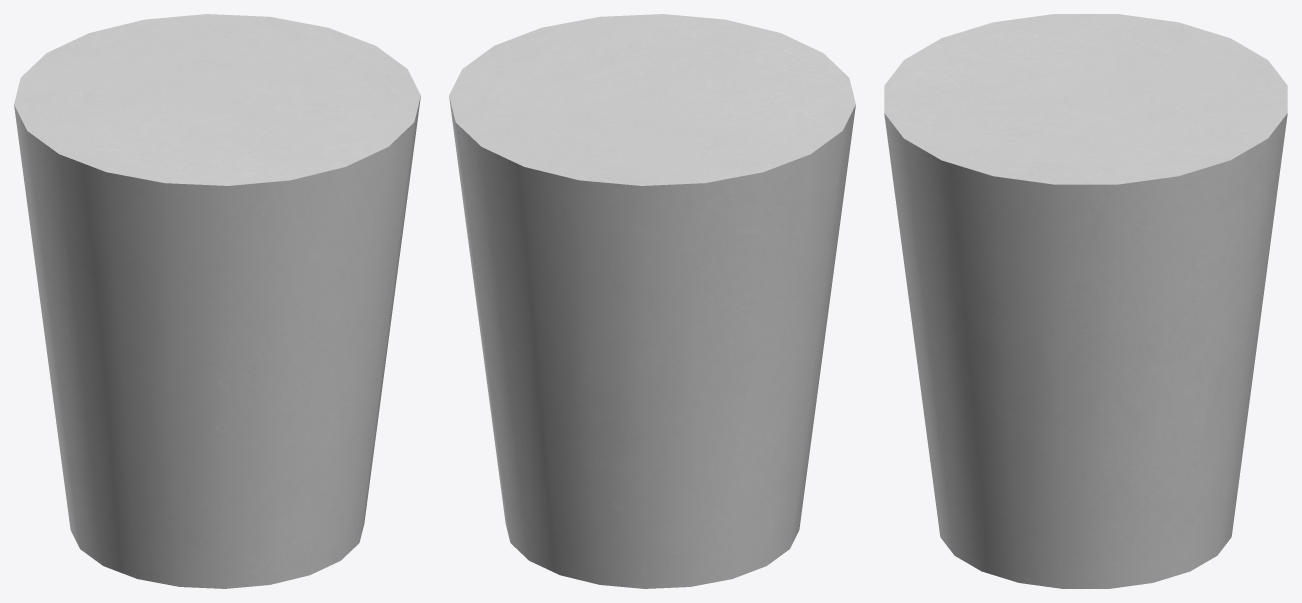
The model's file is SM_浓缩瓶塞.fbx.
The picture shows the model from 3 angles, left to right: view 1: azimuth 30°, elevation 25°; view 2: azimuth 150°, elevation 25°; view 3: azimuth 270°, elevation 25°; orthographic projection.
Parts seen in each view (by area): view 1: SM_浓缩瓶塞; view 2: SM_浓缩瓶塞; view 3: SM_浓缩瓶塞.
Part boxes in pixels (x1,y1,x2,y2): SM_浓缩瓶塞: (14,14,420,588); SM_浓缩瓶塞: (449,14,855,588); SM_浓缩瓶塞: (884,14,1287,588).
Size of the model in its own units: 40.78 by 47.72 by 40.78.
